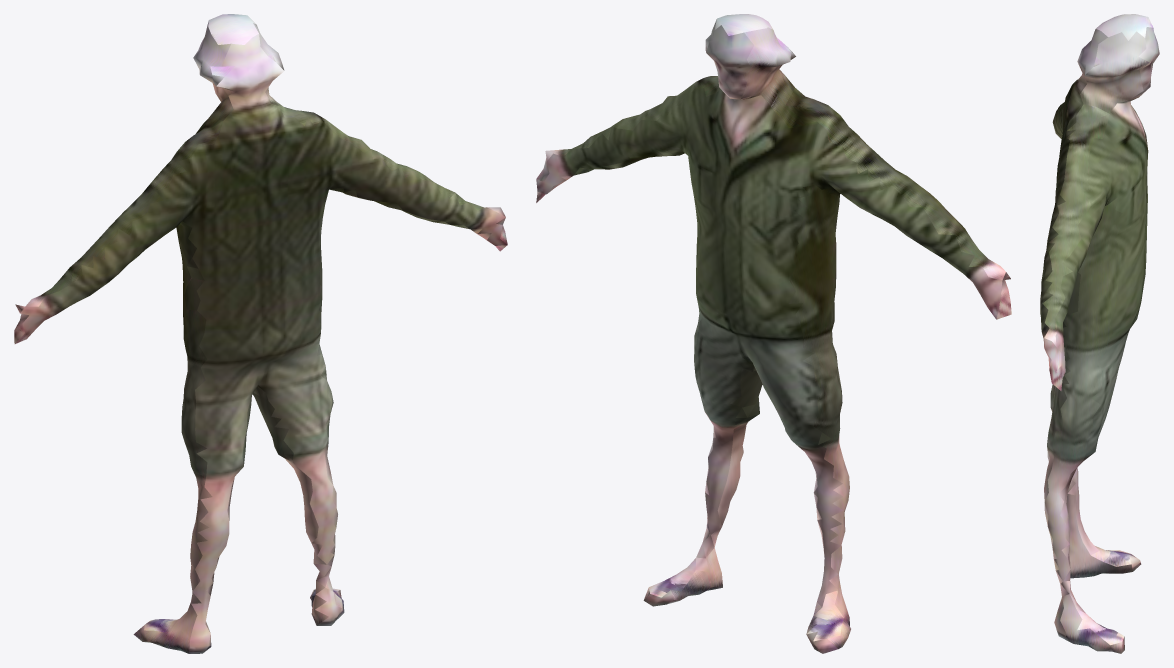
3 views of the same model, side by side, from view 1: azimuth 30°, elevation 25°; view 2: azimuth 150°, elevation 25°; view 3: azimuth 270°, elevation 25° (orthographic). The views are drawn at different scales.
Parts seen in each view (by area): view 1: world; view 2: world; view 3: world.
Boxes of the visible parts, left/top/right/bottom form: world: left=14, top=14, right=507, bottom=653; world: left=536, top=14, right=1011, bottom=653; world: left=1040, top=14, right=1159, bottom=653.
Bounding box in the file's own units: 0.8446 × 1.01 × 0.1859.
Materials: 1 (1 with a texture image).
